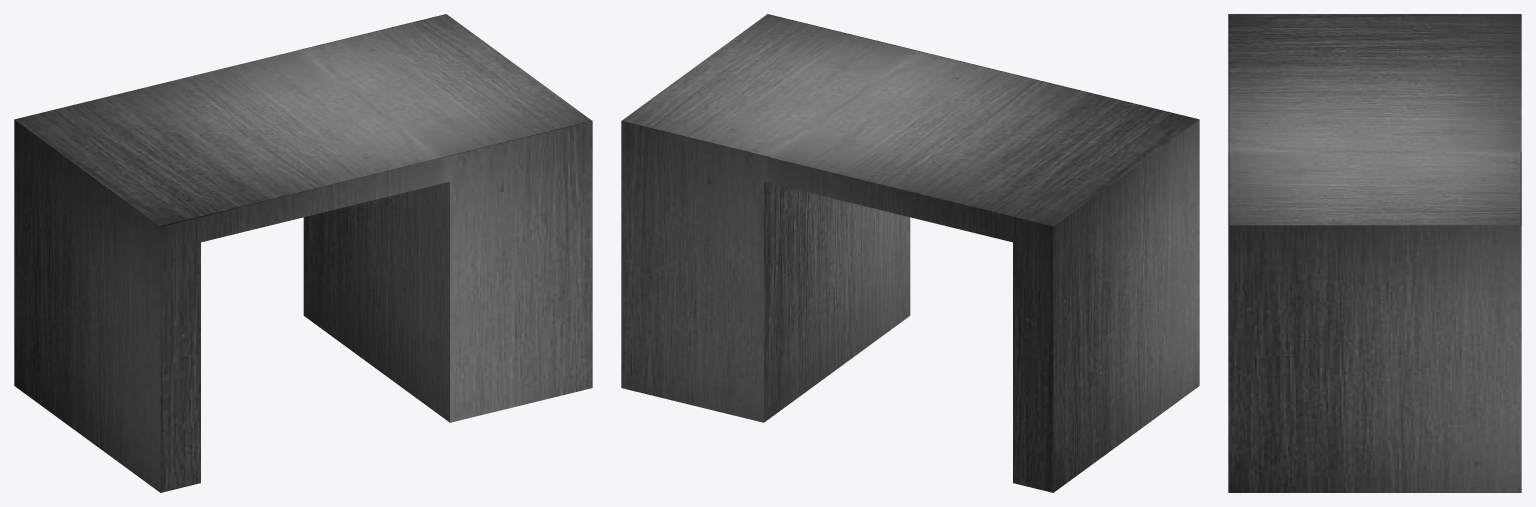
The model's file is Desk.fbx.
3 renders of one model, left to right at view 1: azimuth 30°, elevation 25°; view 2: azimuth 150°, elevation 25°; view 3: azimuth 270°, elevation 25°, orthographic.
Visible parts, largest first — view 1: pCube12; view 2: pCube12; view 3: pCube12.
Part boxes in pixels (box(x1,y1,x2,y2)): pCube12: box(14, 14, 592, 492); pCube12: box(621, 14, 1199, 492); pCube12: box(1228, 14, 1521, 492).
Bounding box in the file's own units: 10.66 × 6.29 × 6.25.
